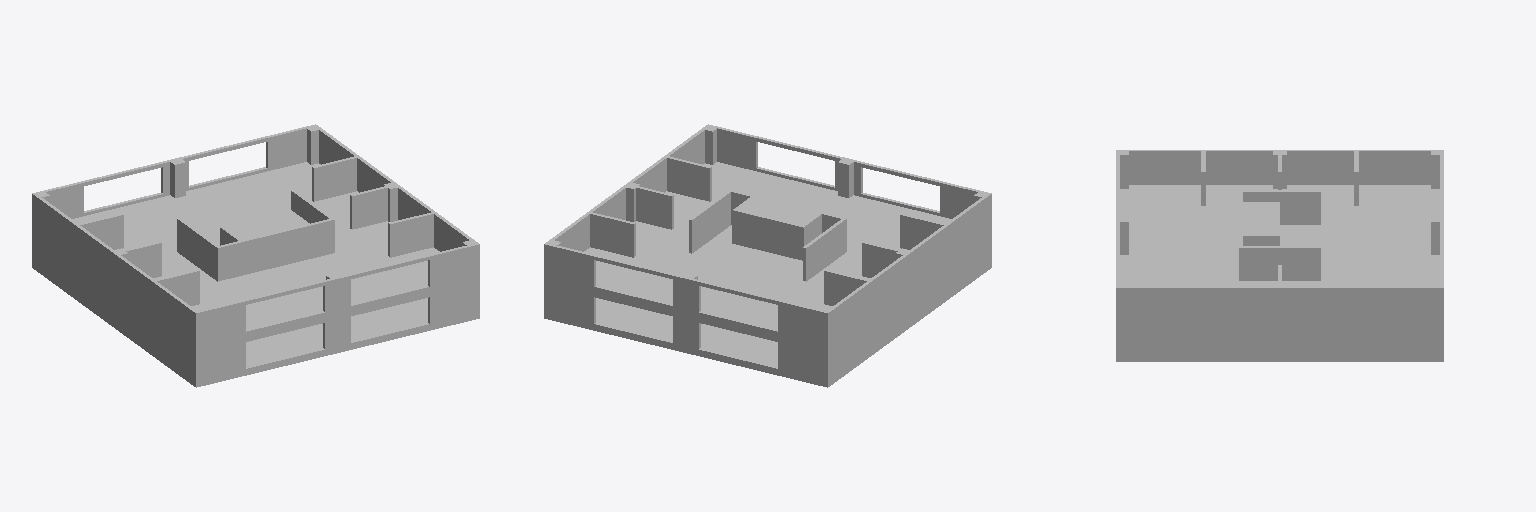
Rendered from Retail.obj.
The picture shows the model from 3 angles: view 1: azimuth 30°, elevation 25°; view 2: azimuth 150°, elevation 25°; view 3: azimuth 270°, elevation 25°; orthographic projection.
Size of the model in its own units: 20 by 5 by 20.